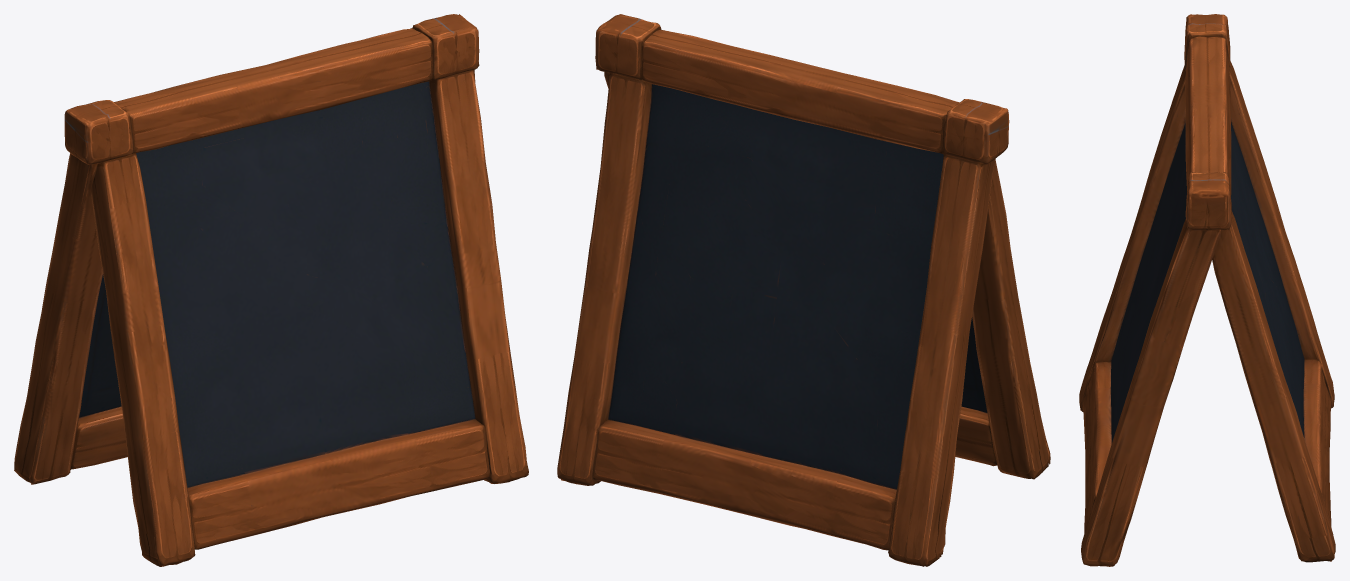
The model's file is Rustic_Chalkboard_Easel.fbx.
3 views of the same model, side by side, from view 1: azimuth 30°, elevation 25°; view 2: azimuth 150°, elevation 25°; view 3: azimuth 270°, elevation 25° (orthographic). The views are drawn at different scales.
Parts seen in each view (by area): view 1: mesh_node; view 2: mesh_node; view 3: mesh_node.
Part boxes in pixels (x1,y1,x2,y2): mesh_node: [14, 14, 528, 566]; mesh_node: [557, 14, 1050, 566]; mesh_node: [1079, 14, 1335, 566].
Bounding box in the file's own units: 100 × 100 × 60.74.
Materials: 1 (1 with a texture image).
